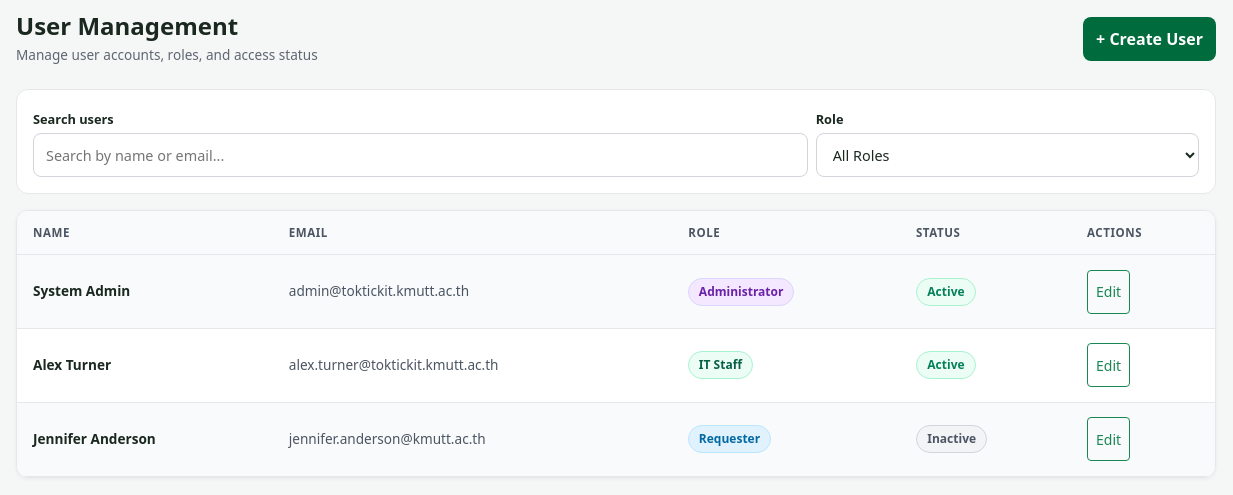
Scenario: UI-07: Administrator user management (FR-14, FR-15, AC-7.1, AC-7.4) › ignores an older directory response after filters change again
The width and height of the screenshot is (1233, 495).
Check: the text "System Admin" is shown, box [33,281,130,300]
Select "IT Staff" in the dropdown with id "admin-role-filter". click: (1007, 155)
box: [816,133,1199,177]
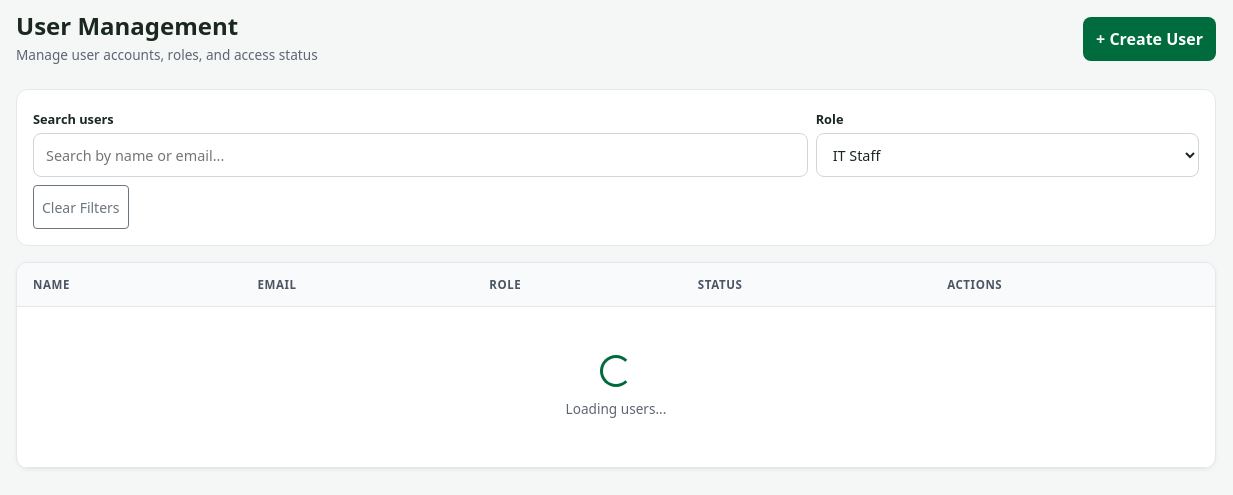
Select "Requester" in the dropdown with id "admin-role-filter". click: (1007, 155)
box: [816,133,1199,177]
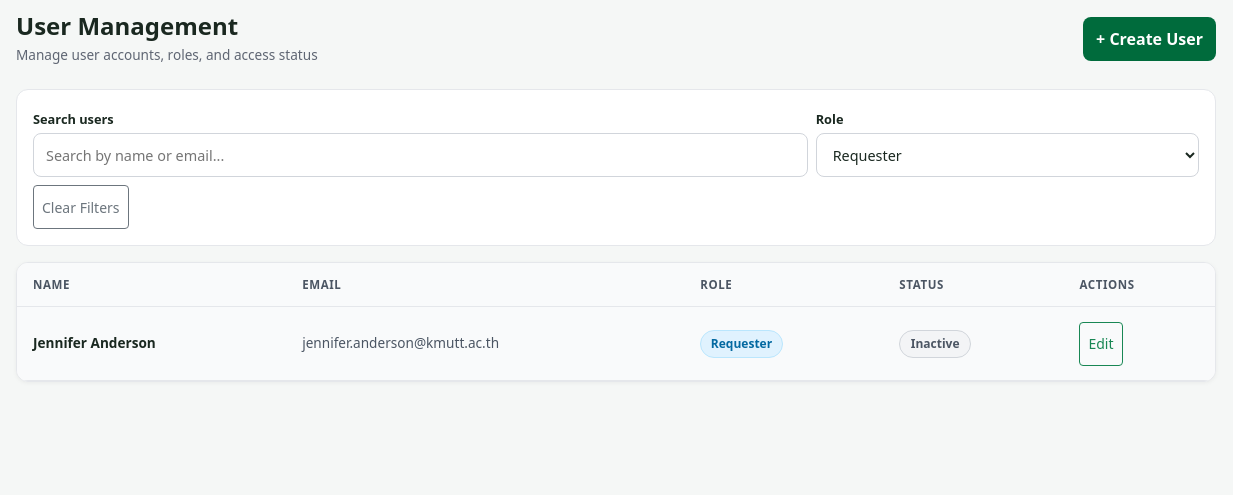
Check: the text "Alex Turner" is not shown
Check: the text "Jennifer Anderson" is shown, box [33,333,156,352]
